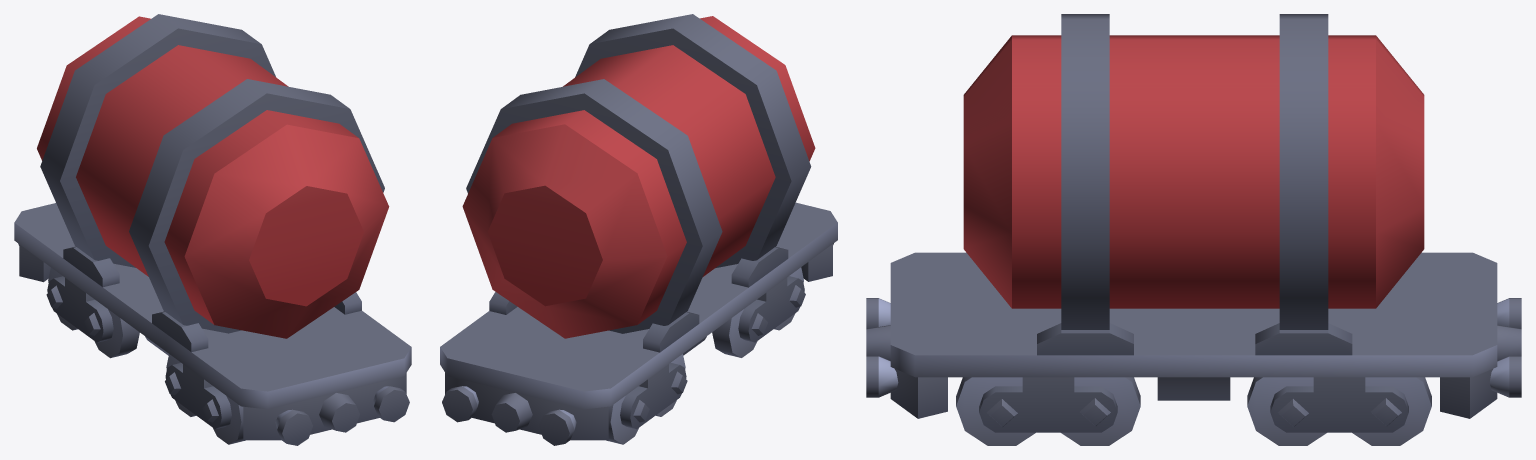
The model's file is train-carriage-tank.glb.
3 renders of one model, left to right at view 1: azimuth 30°, elevation 25°; view 2: azimuth 150°, elevation 25°; view 3: azimuth 270°, elevation 25°, orthographic. The views are drawn at different scales.
Parts seen in each view (by area): view 1: train-carriage-tank, wheels-back, wheels-front; view 2: train-carriage-tank, wheels-front, wheels-back; view 3: train-carriage-tank, wheels-front, wheels-back.
Boxes of the visible parts, box(x1,y1,x2,y2) form: train-carriage-tank: box(14, 14, 411, 445); wheels-back: box(46, 267, 139, 358); wheels-front: box(165, 354, 245, 444); train-carriage-tank: box(440, 14, 837, 445); wheels-front: box(712, 267, 805, 357); wheels-back: box(606, 354, 687, 444); train-carriage-tank: box(866, 14, 1521, 418); wheels-front: box(956, 377, 1140, 445); wheels-back: box(1247, 377, 1431, 445).
Size of the model in its own units: 1.39 by 1.75 by 2.7.
